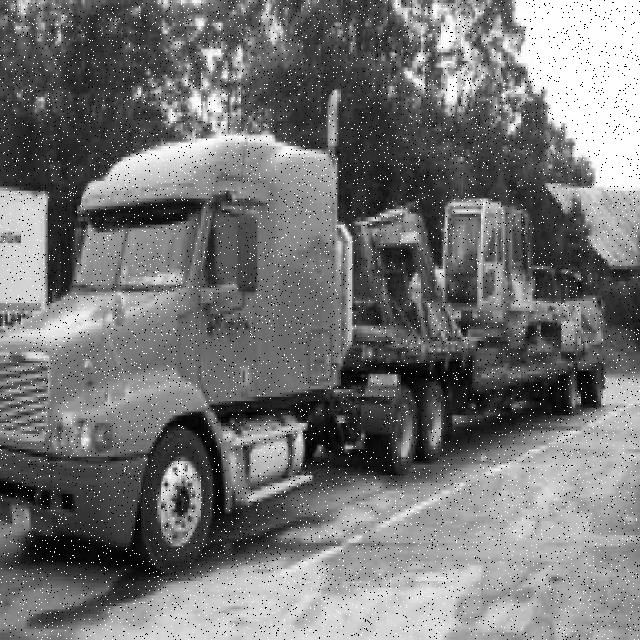Box Truck: (0, 91, 612, 577)
